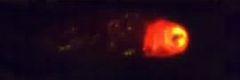keyhole: (171, 30, 183, 43)
